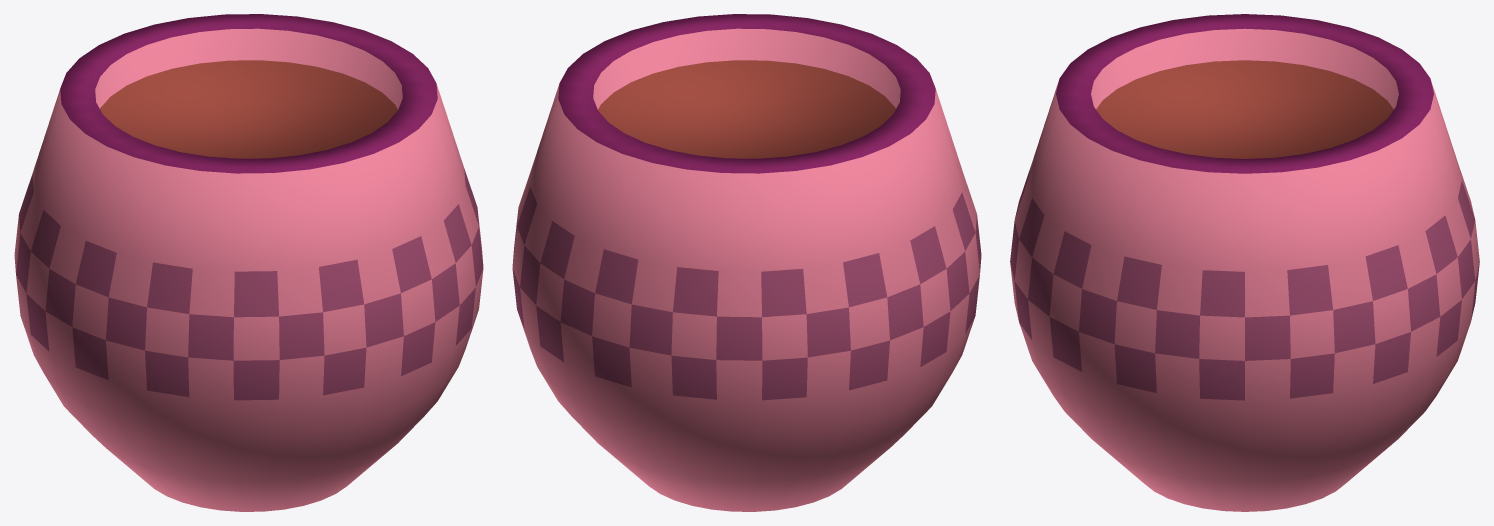
The model's file is Pot_7.fbx.
3 views of the same model, side by side, from view 1: azimuth 30°, elevation 25°; view 2: azimuth 150°, elevation 25°; view 3: azimuth 270°, elevation 25° (orthographic).
Visible parts, largest first — view 1: Sphere; view 2: Sphere; view 3: Sphere.
Boxes of the visible parts, x1,y1,x2,y2 form: Sphere: [14, 14, 483, 511]; Sphere: [512, 14, 981, 511]; Sphere: [1010, 14, 1479, 511].
Size of the model in its own units: 28.68 by 25.05 by 28.68.
1 material, 1 textured.
